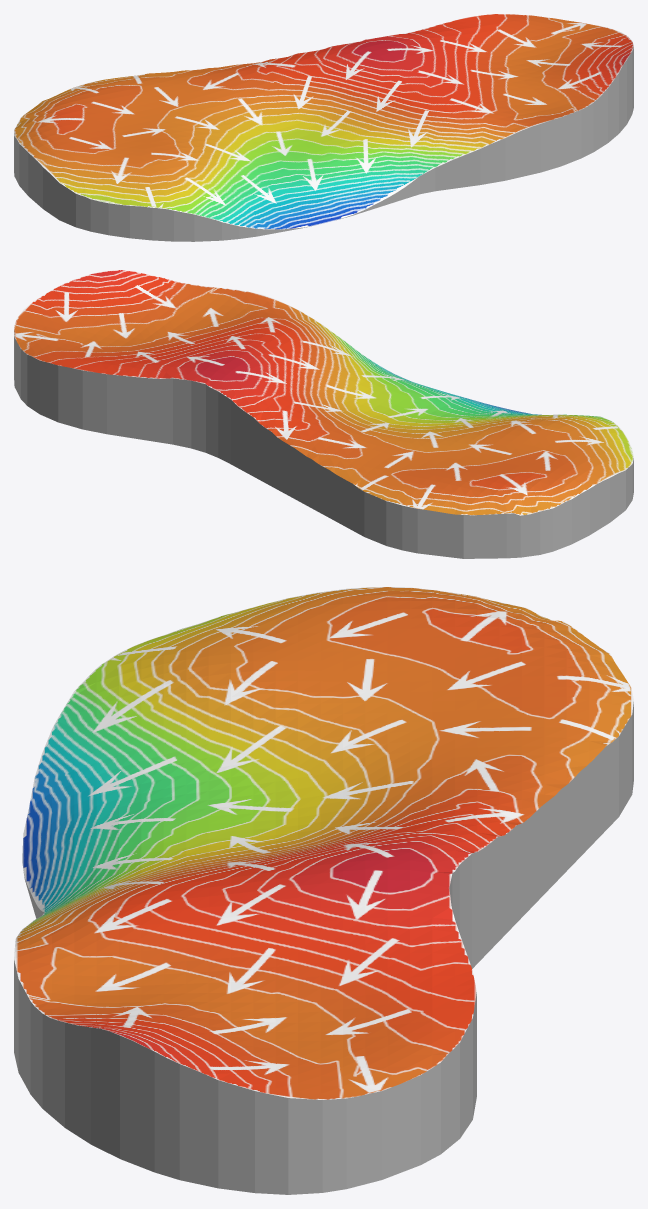
The picture shows the model from 3 angles, top to bottom: view 1: azimuth 30°, elevation 25°; view 2: azimuth 150°, elevation 25°; view 3: azimuth 270°, elevation 25°; orthographic projection. The views are drawn at different scales.
Size of the model in its own units: 5.28 by 0.6018 by 2.63.
Materials: 2 (1 with a texture image).
